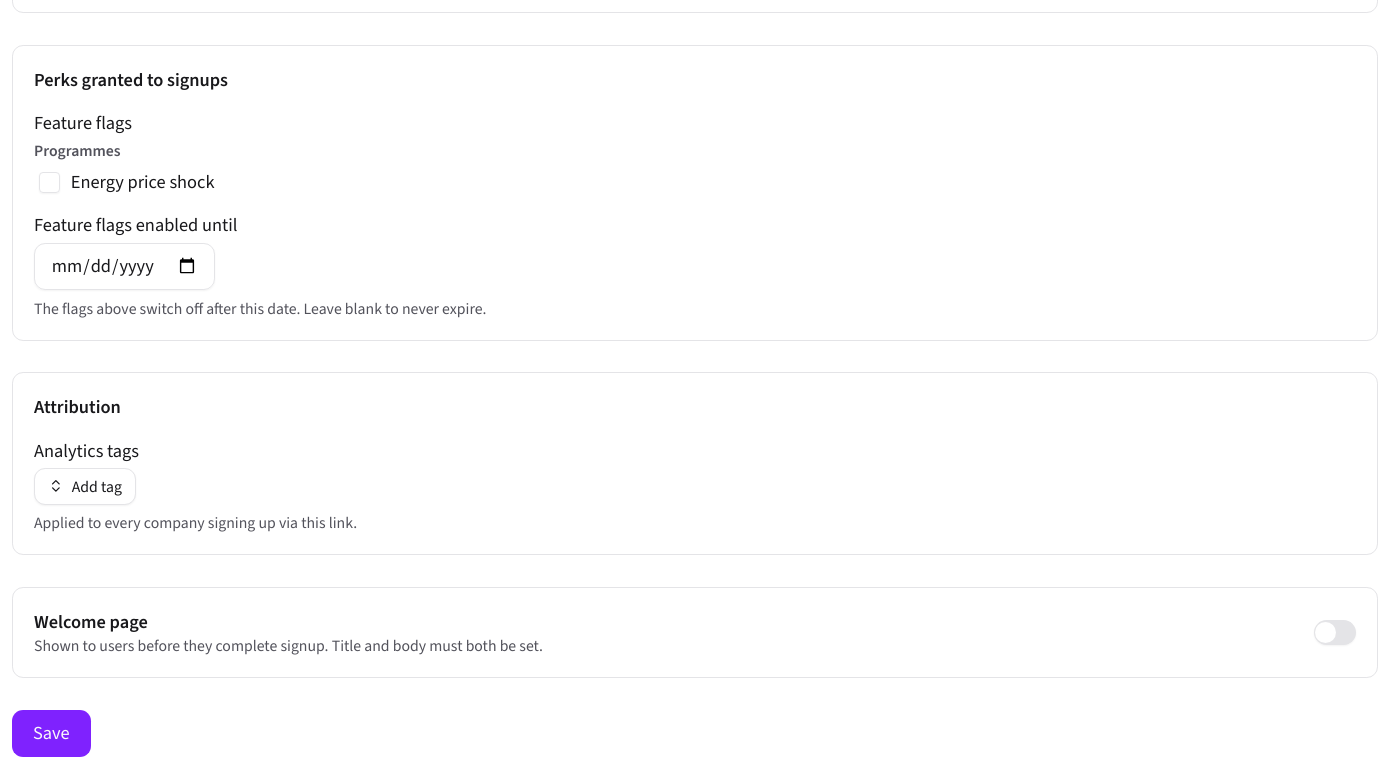
SignupLinkForm — welcome page validation › enabling welcome page with empty title and body blocks submit and shows warnings
(page scrolled)
Click the switch named "enable welcome page" at [1335, 632], box [1314,620,1356,644]
(page scrolled)
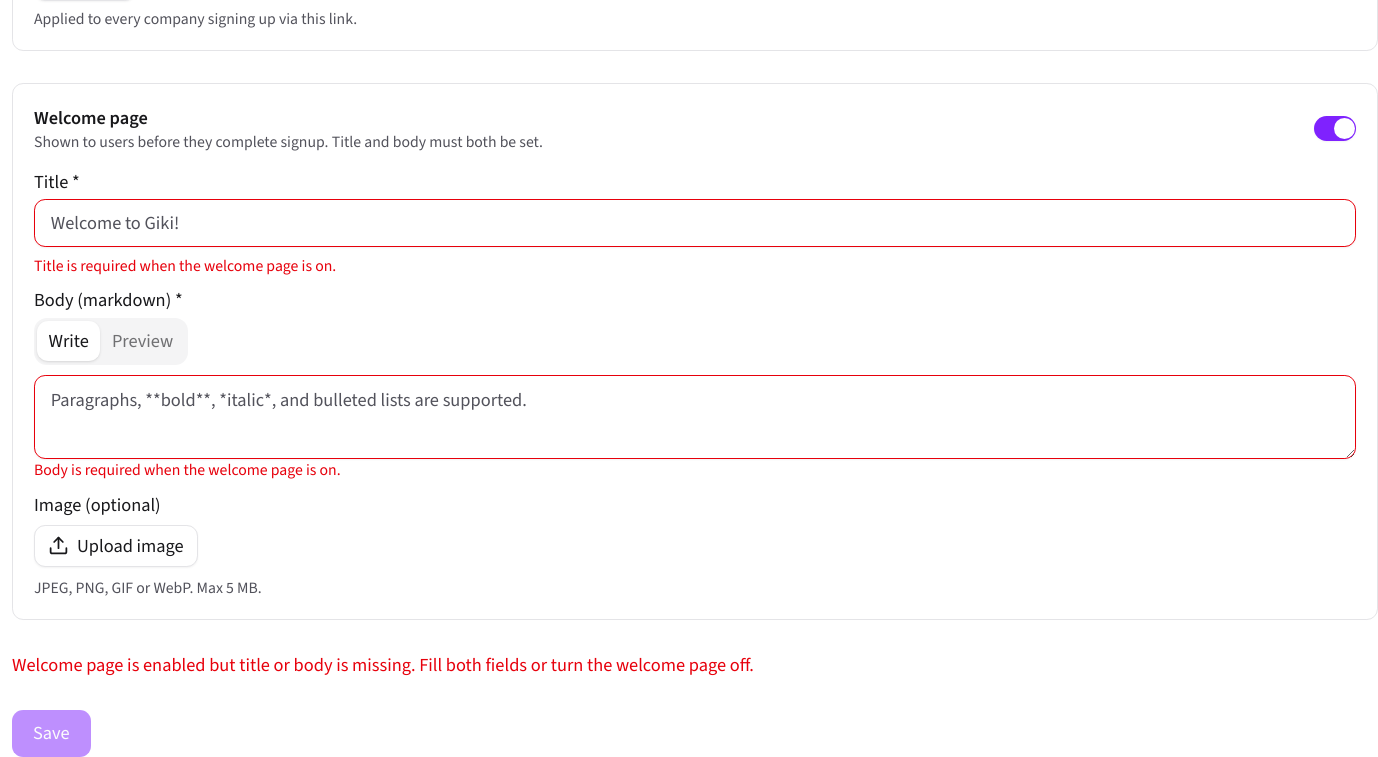
Check: the text "Title is required when the welcome page is on." is shown, box [34,254,336,276]
Check: the text "Body is required when the welcome page is on." is shown, box [34,459,341,480]
Check: the text "Welcome page is enabled but title or body is missing" is shown, box [12,653,754,677]
